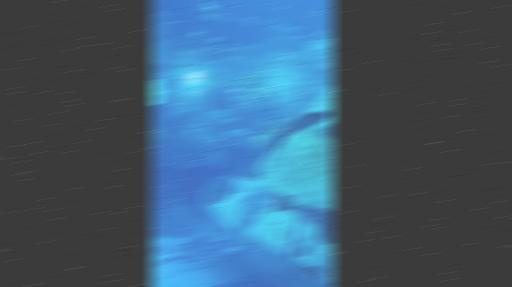Fish: (267, 112, 330, 162), (273, 194, 334, 229), (262, 120, 285, 142), (273, 193, 296, 212), (305, 266, 326, 278), (153, 60, 168, 73), (242, 12, 255, 26), (249, 85, 264, 97), (322, 124, 333, 139), (202, 4, 217, 12), (201, 13, 216, 20), (300, 245, 309, 256), (246, 74, 257, 82), (209, 37, 222, 43), (303, 35, 316, 41), (192, 31, 203, 36), (280, 228, 284, 240), (176, 52, 192, 55), (317, 30, 326, 34), (203, 4, 212, 6), (315, 11, 319, 14)
